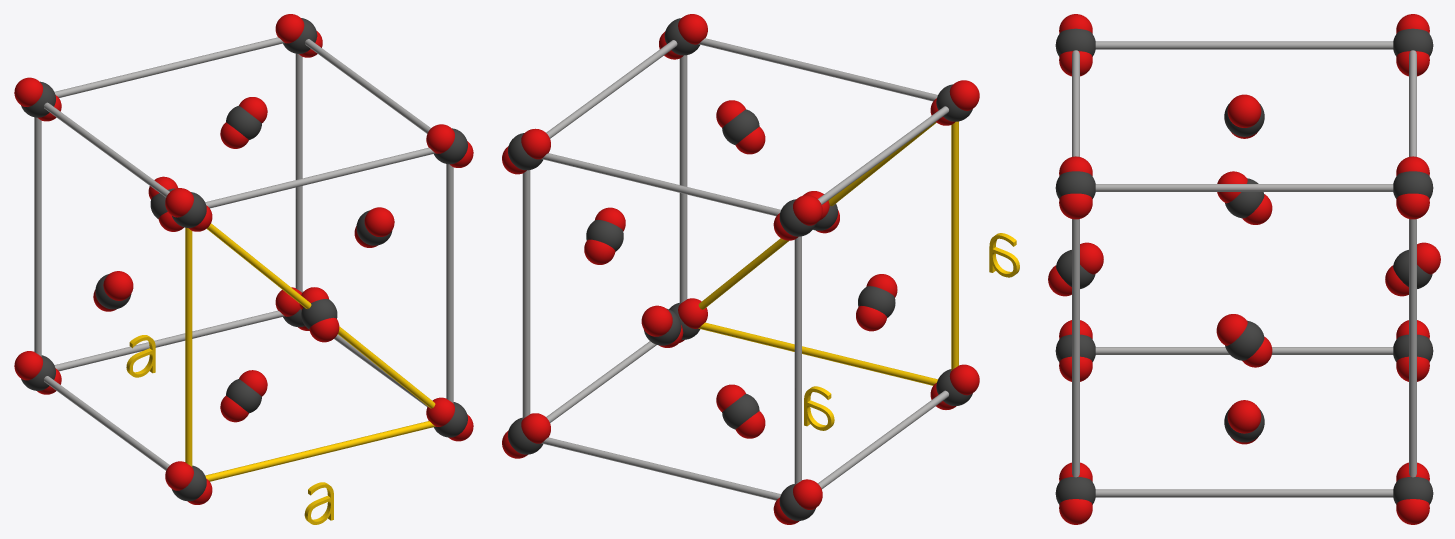
The model's file is fenzijingtu3.FBX.
The picture shows the model from 3 angles, left to right: view 1: azimuth 30°, elevation 25°; view 2: azimuth 150°, elevation 25°; view 3: azimuth 270°, elevation 25°; orthographic projection. The views are drawn at different scales.
Parts seen in each view (by area): view 1: F002; view 2: F002; view 3: F002.
Part boxes in pixels (box(x1,y1,x2,y2)): F002: box(14, 14, 473, 524); F002: box(502, 14, 1019, 524); F002: box(1048, 14, 1440, 524).
Bounding box in the file's own units: 65.78 × 67.23 × 58.27.
